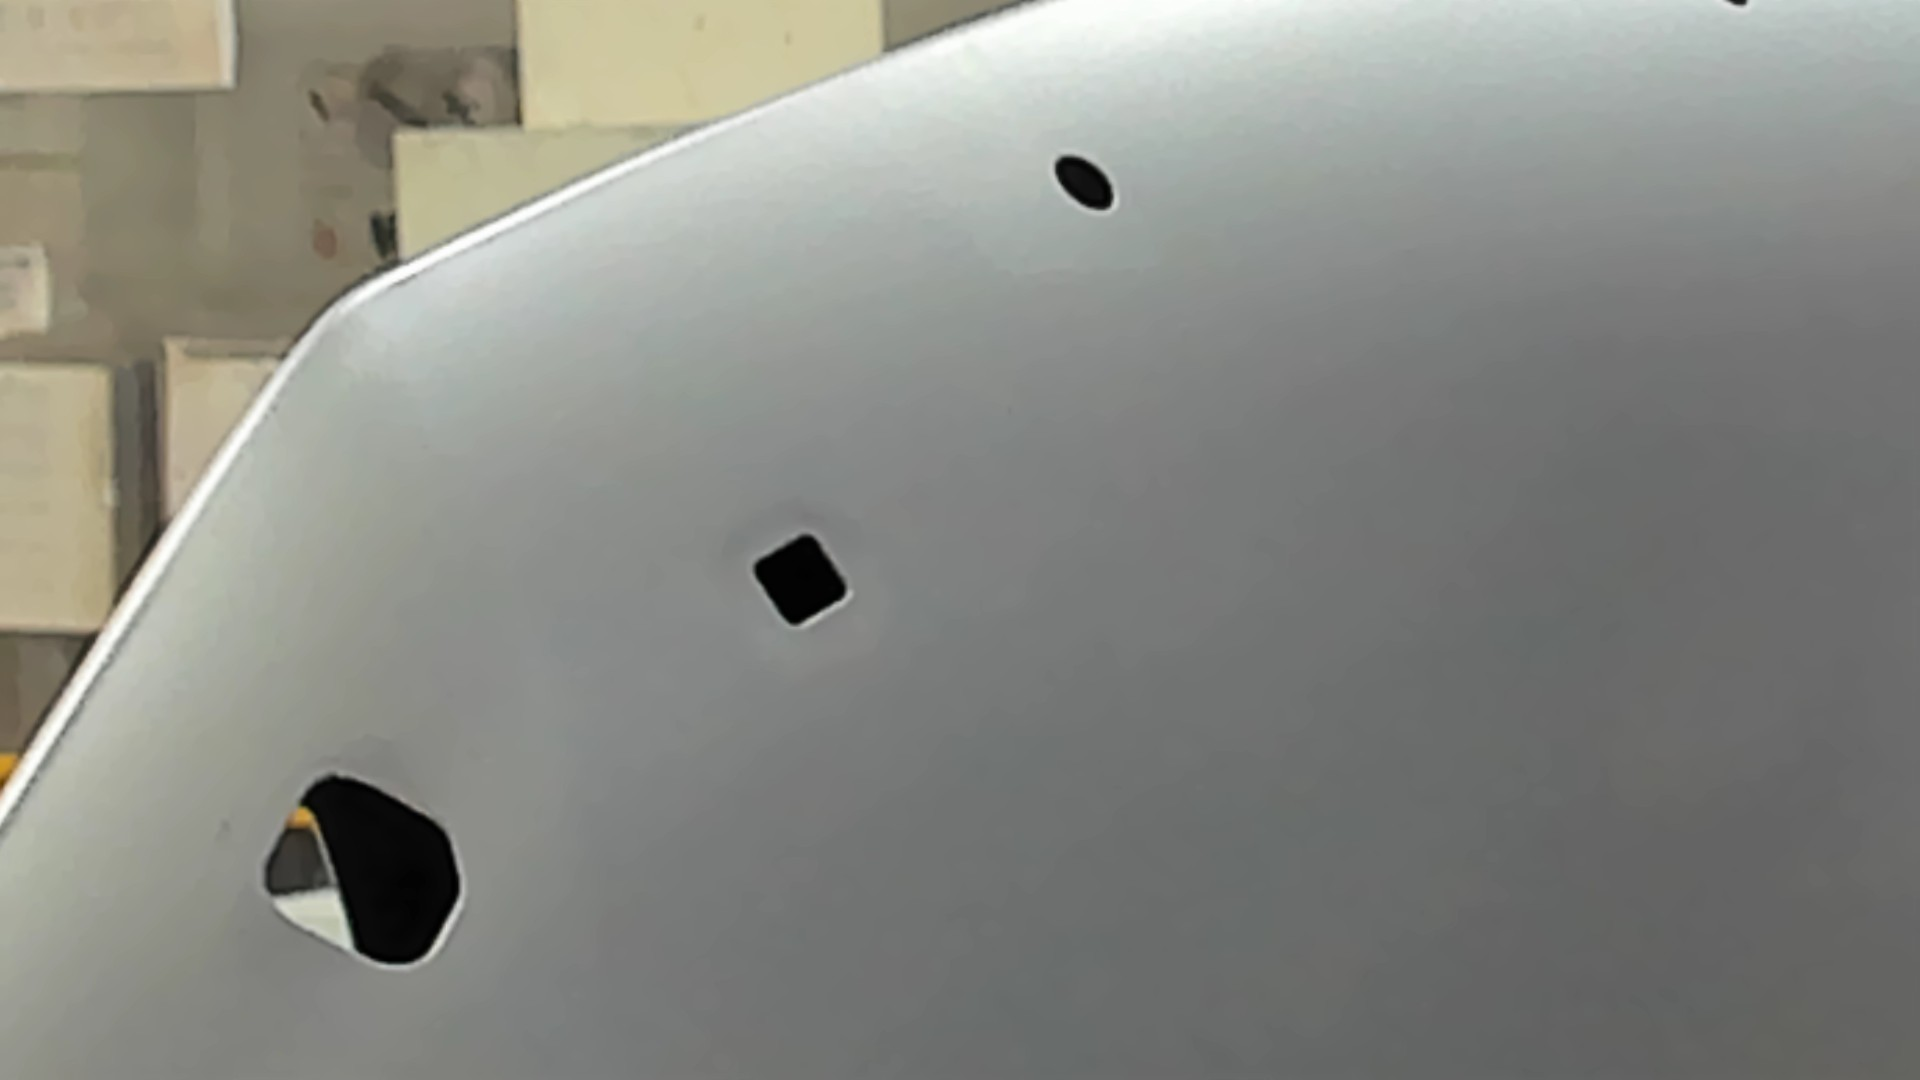chico: (1052, 153, 1116, 214)
grande: (260, 767, 465, 973)
mediano: (749, 531, 852, 628)
